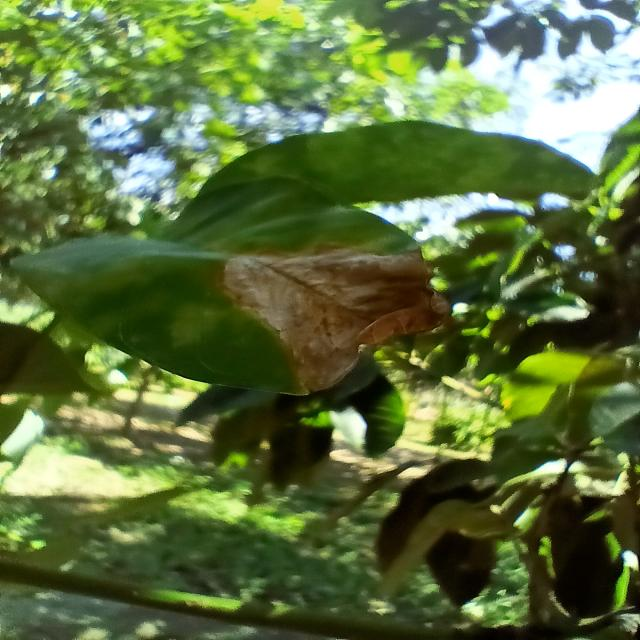Leaf-Blight: (221, 245, 453, 390)
